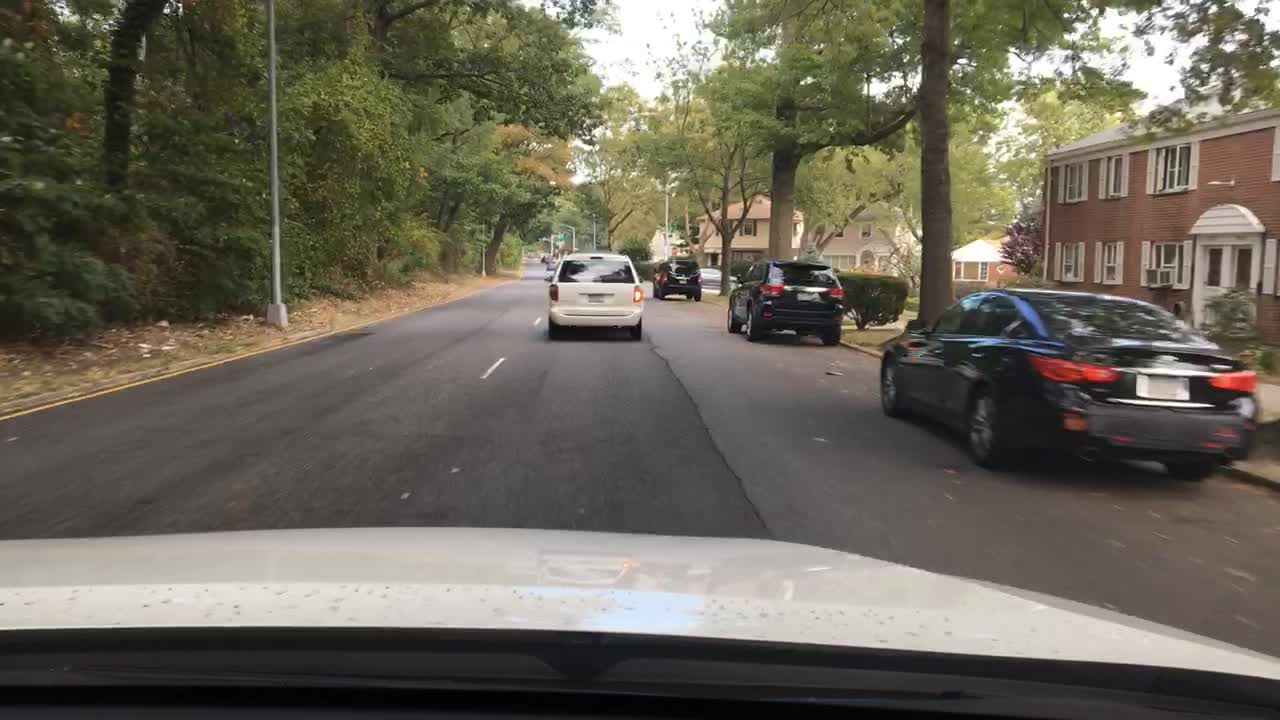car: (874, 284, 1261, 487), (722, 256, 848, 352), (544, 249, 652, 342), (650, 253, 705, 304), (538, 253, 558, 269)
traffic light: (654, 220, 667, 242), (667, 218, 676, 240)
